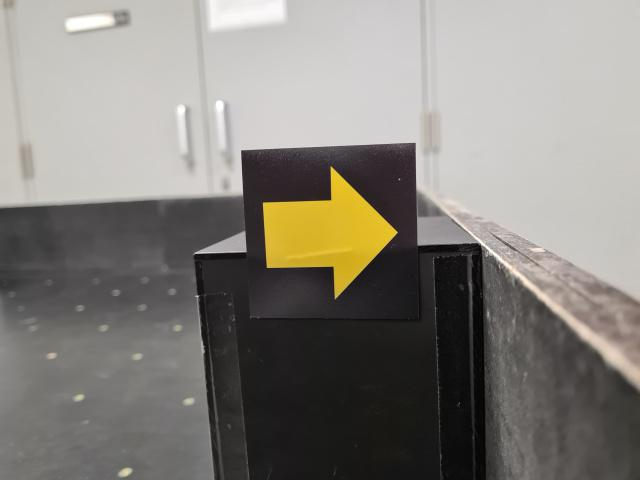right: (241, 142, 422, 323)
